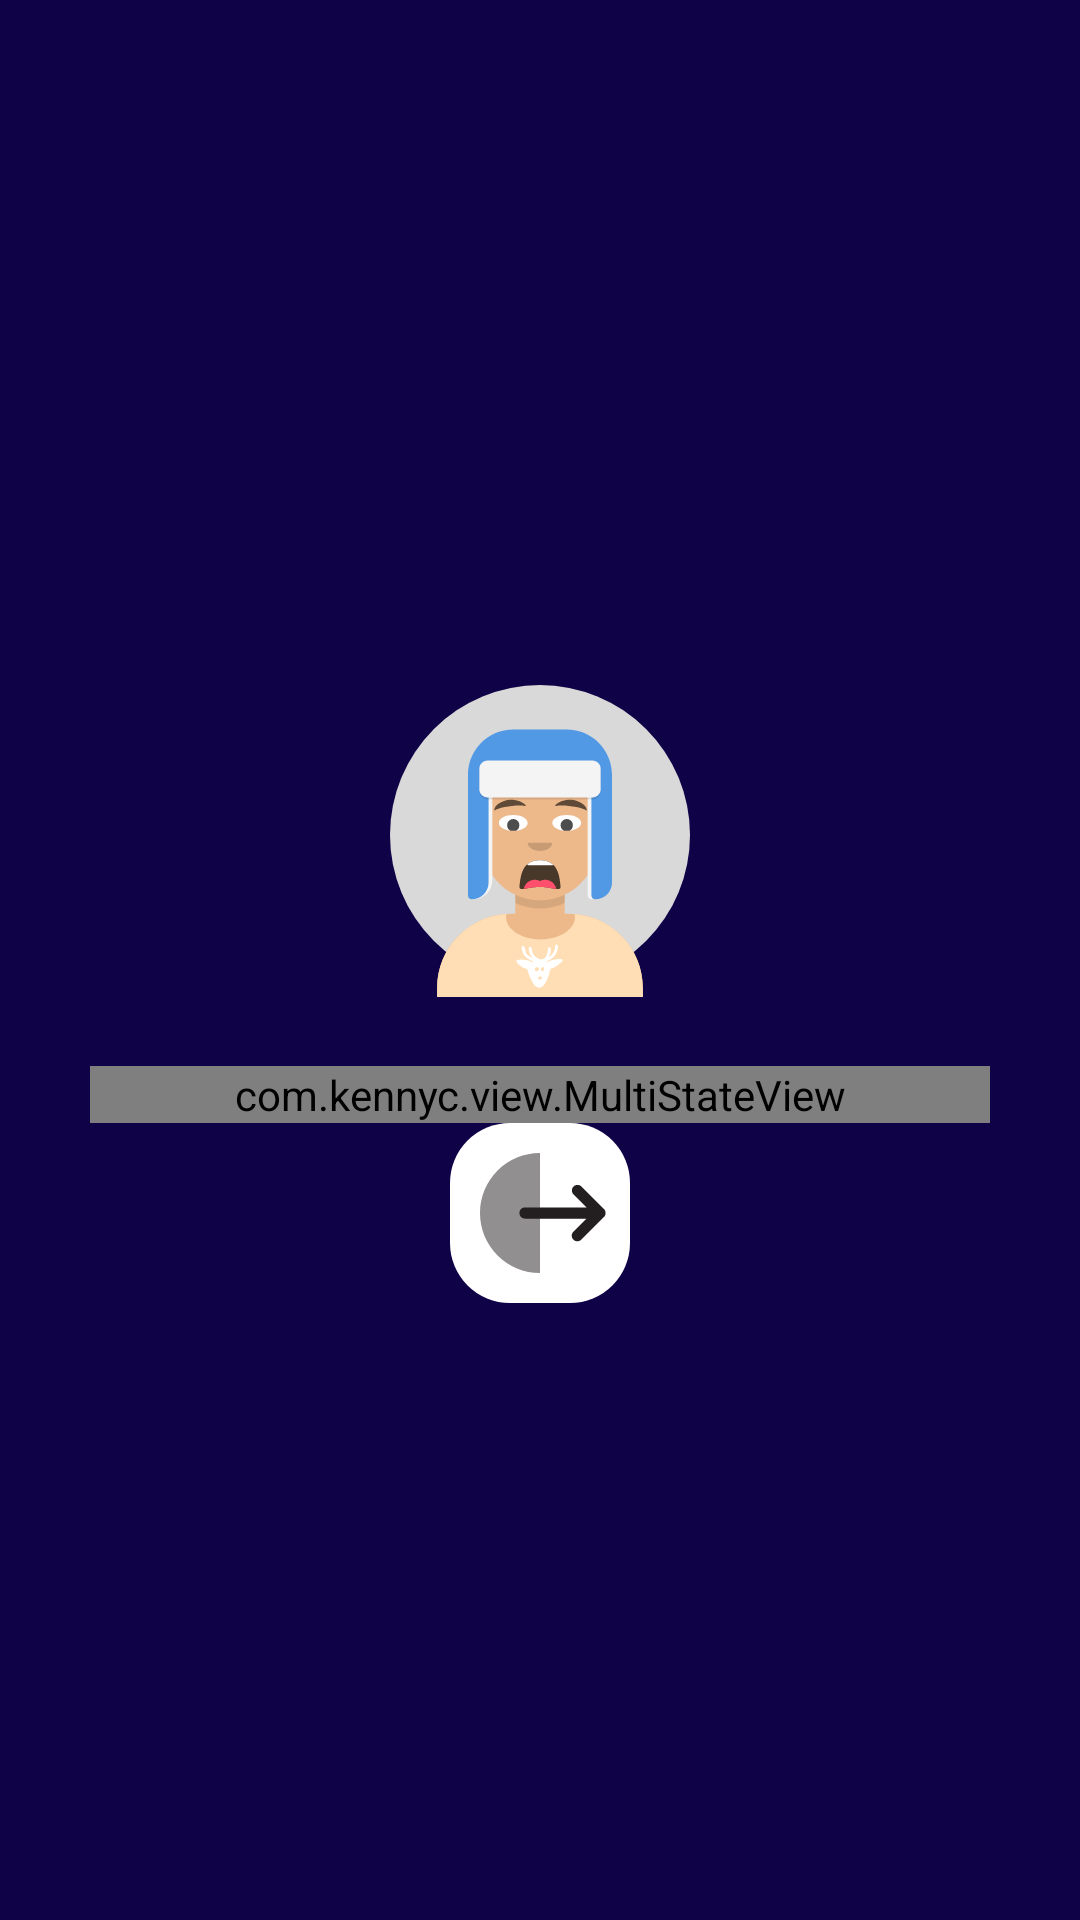

Named icons in this screenshot (1080×1920) and their centers, [x,y]:
profile: [540,841]
